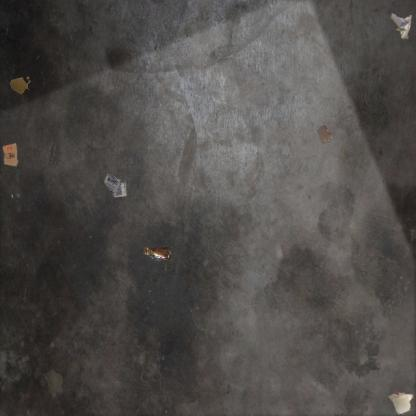dirty: (102, 171, 128, 199), (389, 12, 414, 41), (388, 391, 416, 415), (142, 245, 173, 263), (2, 142, 20, 168)
liquid: (8, 75, 32, 95), (318, 124, 336, 146)
